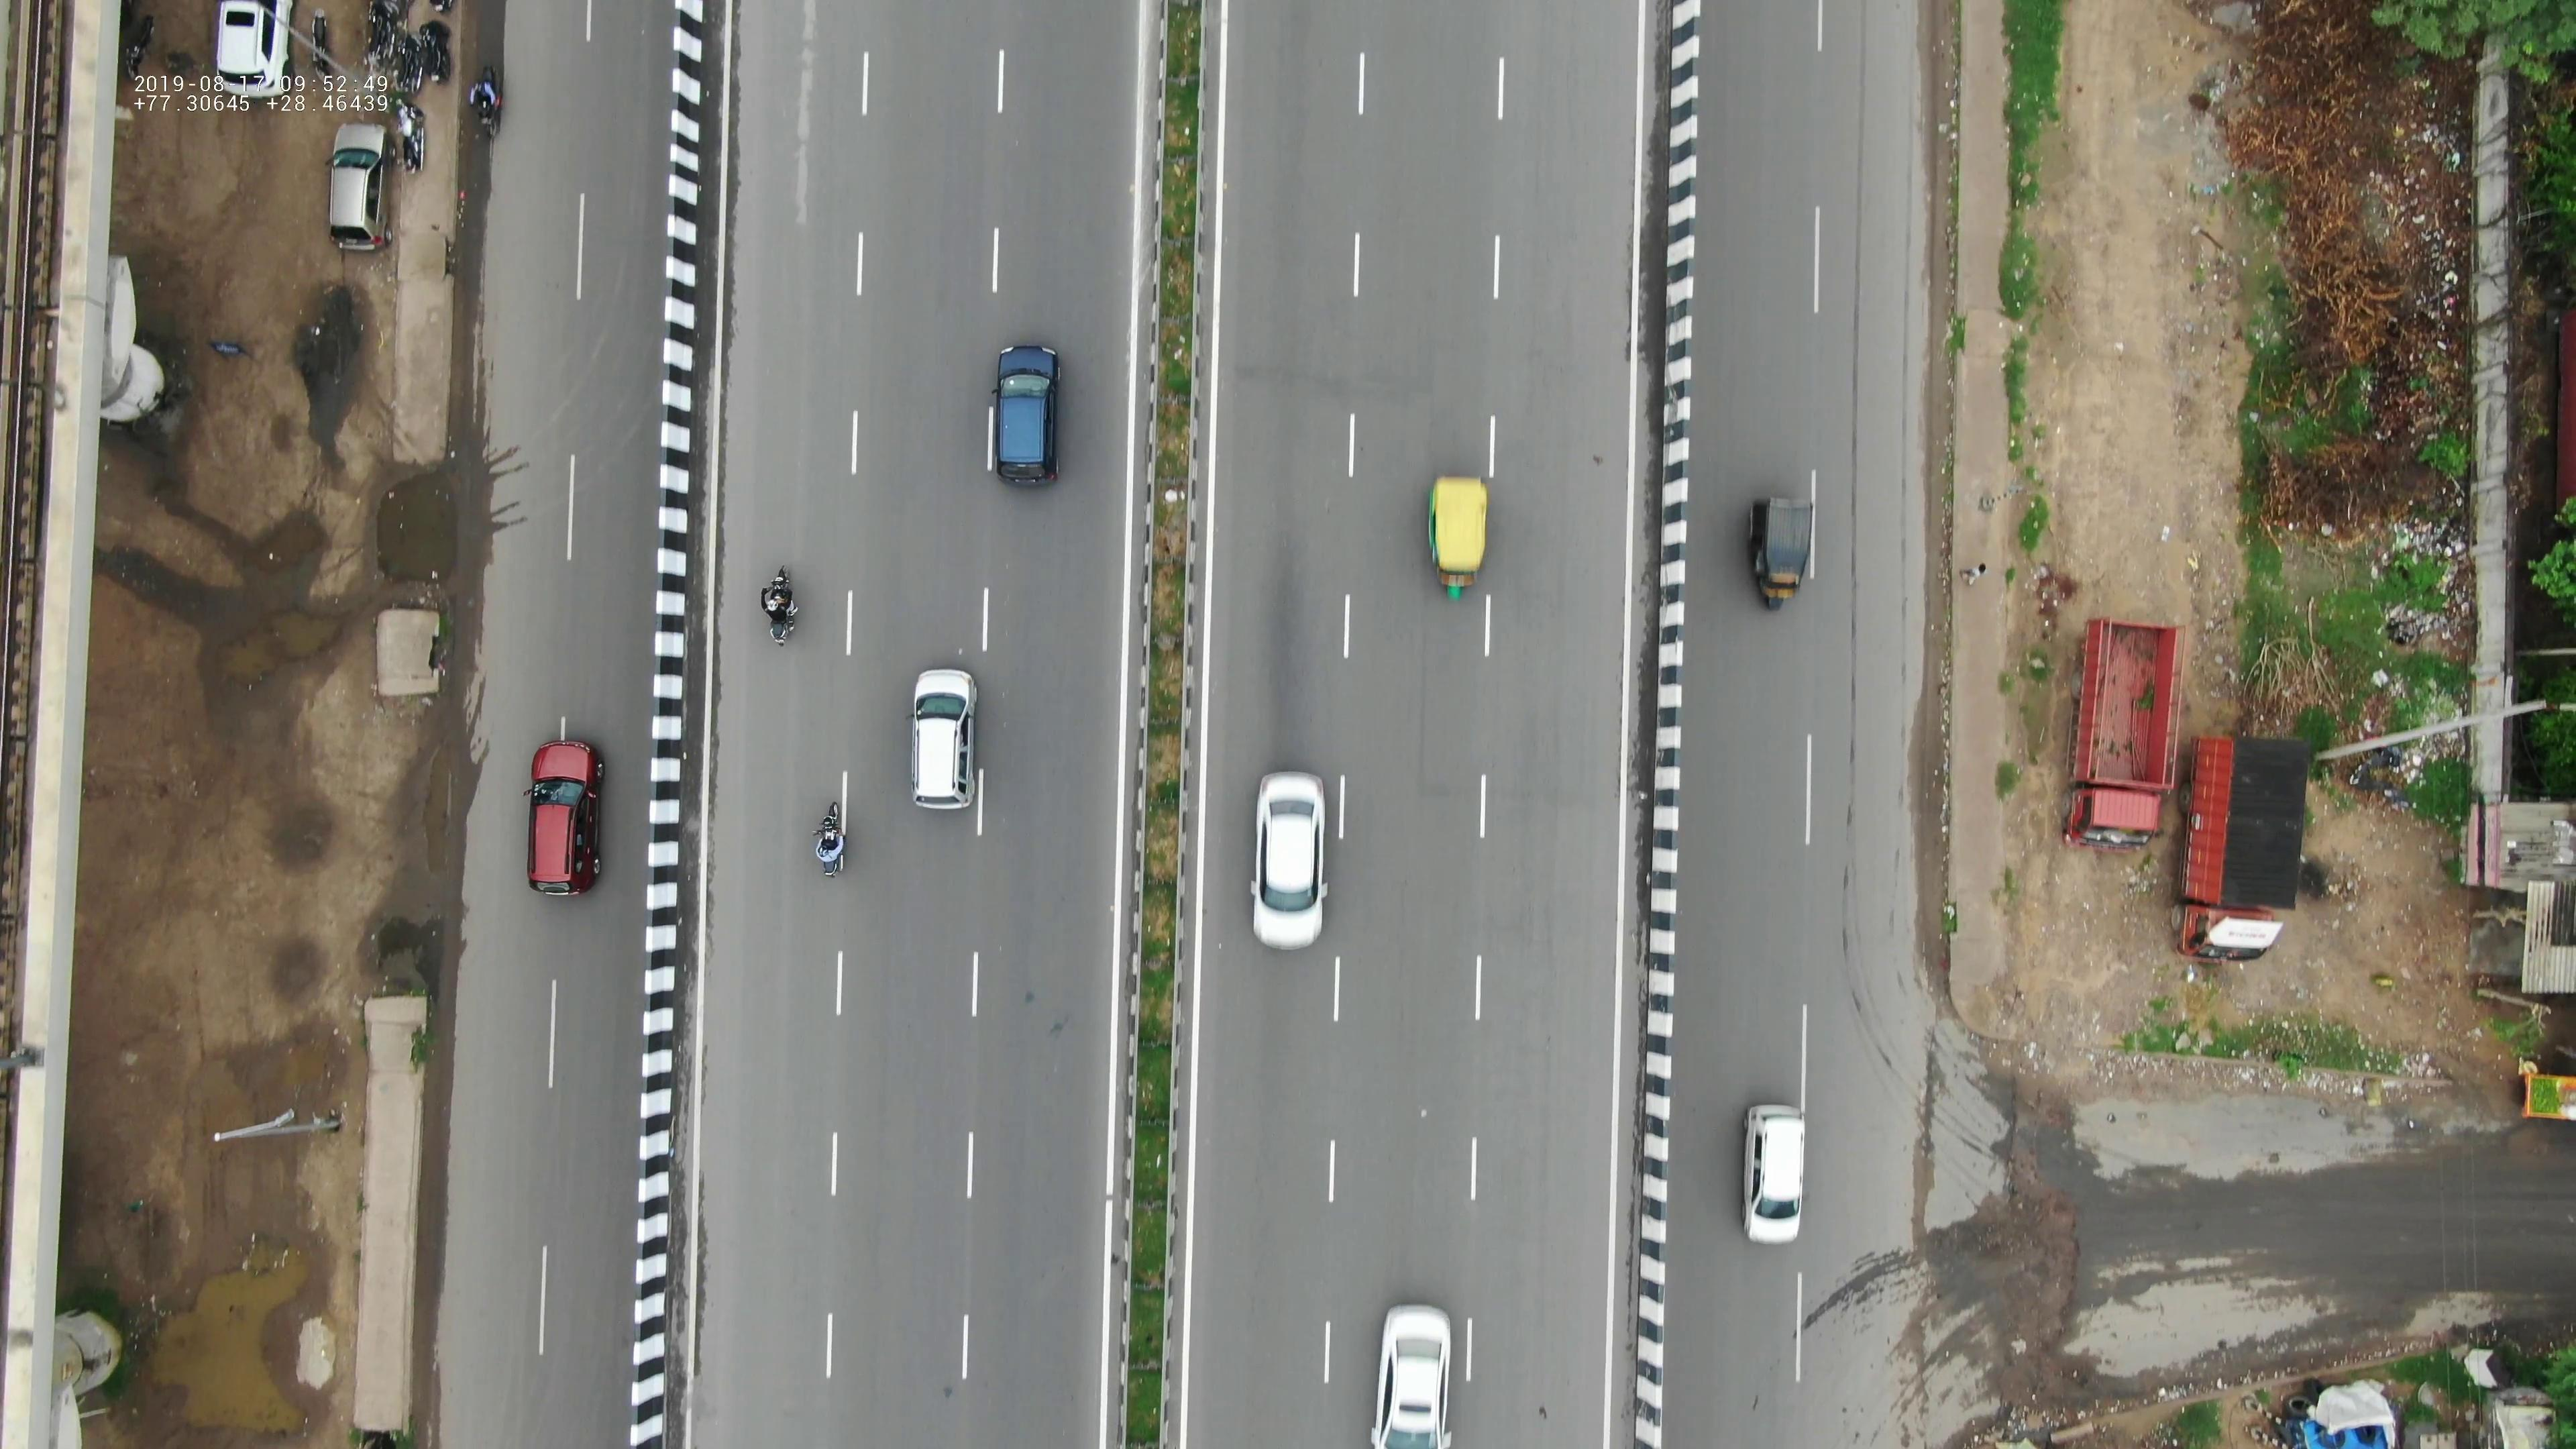Waterlogging: (366, 449, 517, 598)
